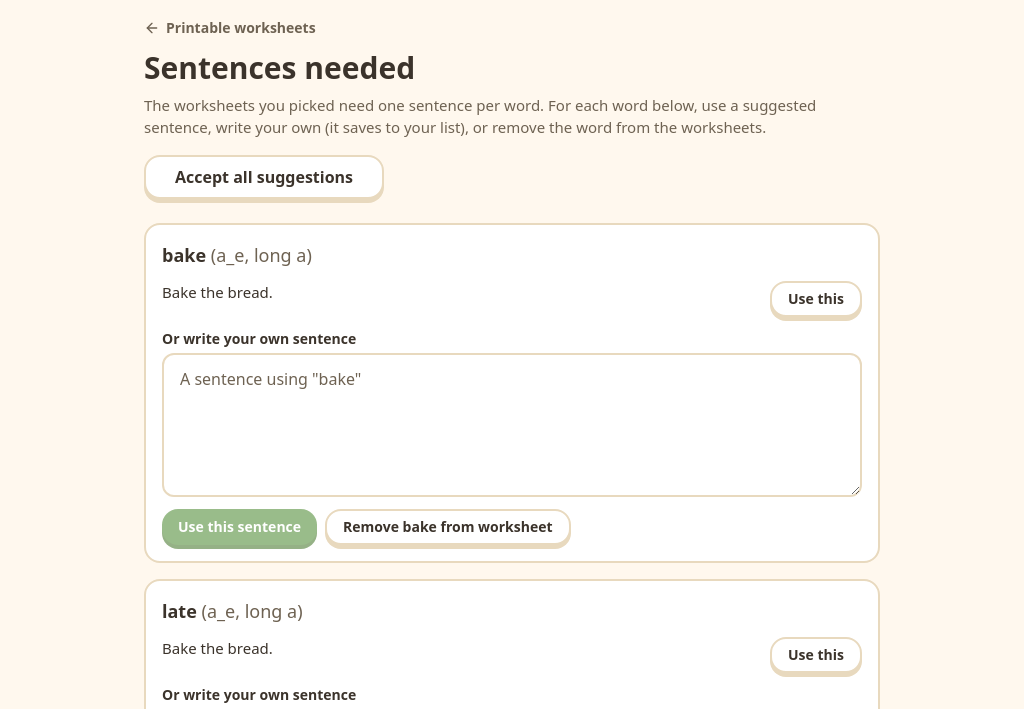
Test: WorksheetsPrintPage › sentence gap flow › does not overwrite a teacher-typed sentence
Type "My own take." into the 1st text box labelled "Or write your own sentence". click: (512, 424)
box: [162, 352, 862, 496]
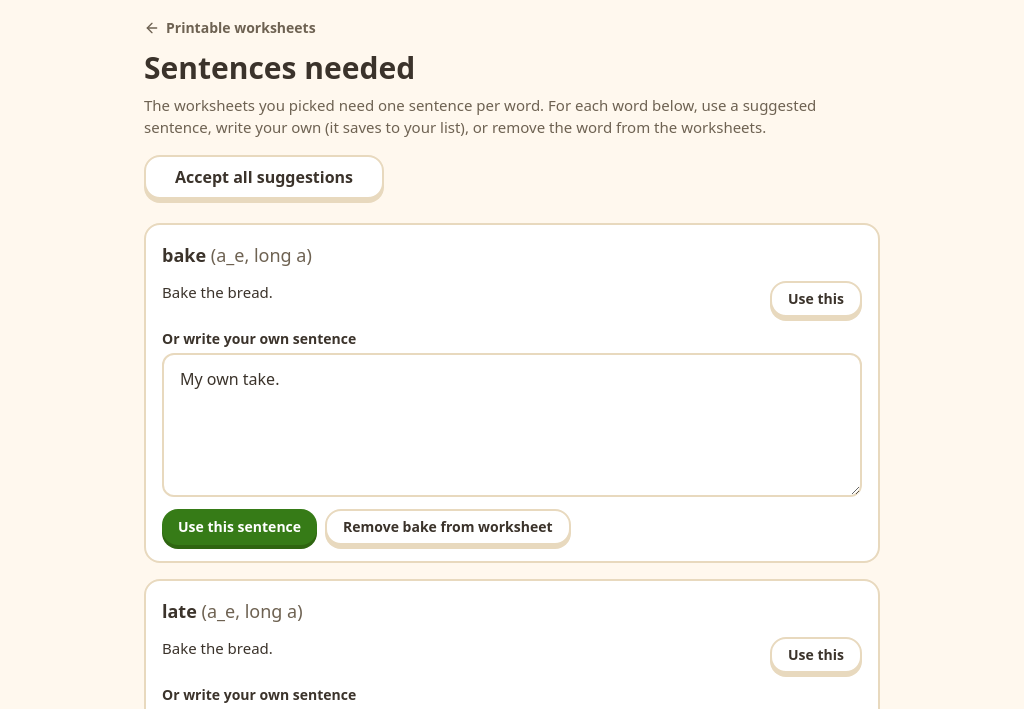
Click the button "Accept all suggestions". click: click(264, 176)
box: [144, 154, 384, 198]
(page scrolled)
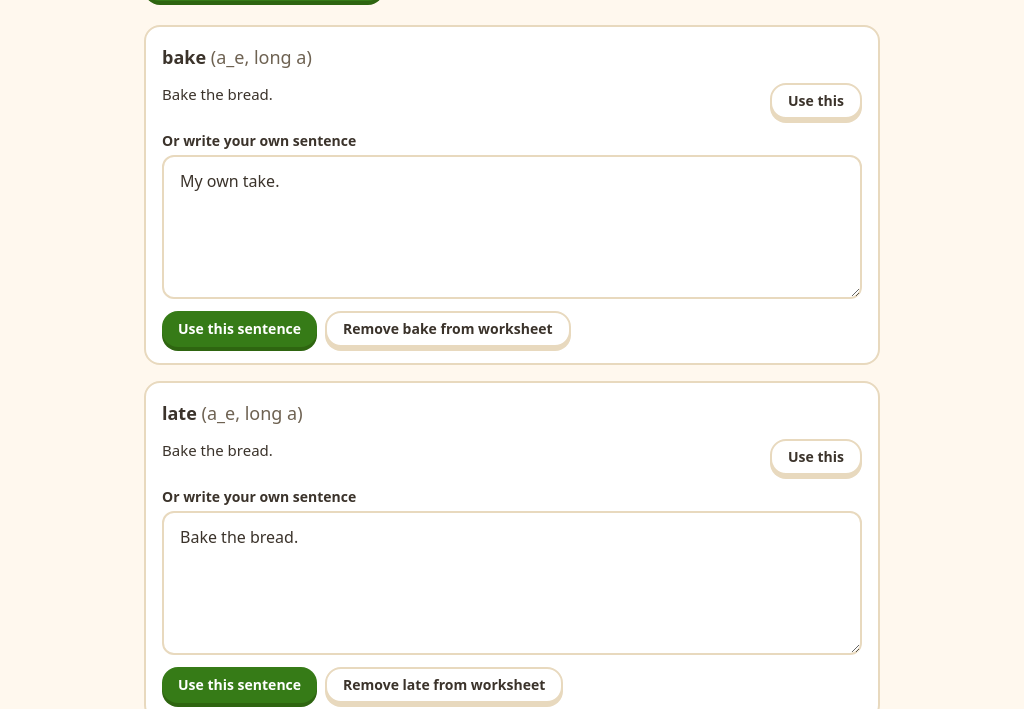
Result: the 2nd text box labelled "Or write your own sentence" holds "Bake the bread." at [162, 510, 862, 654]
